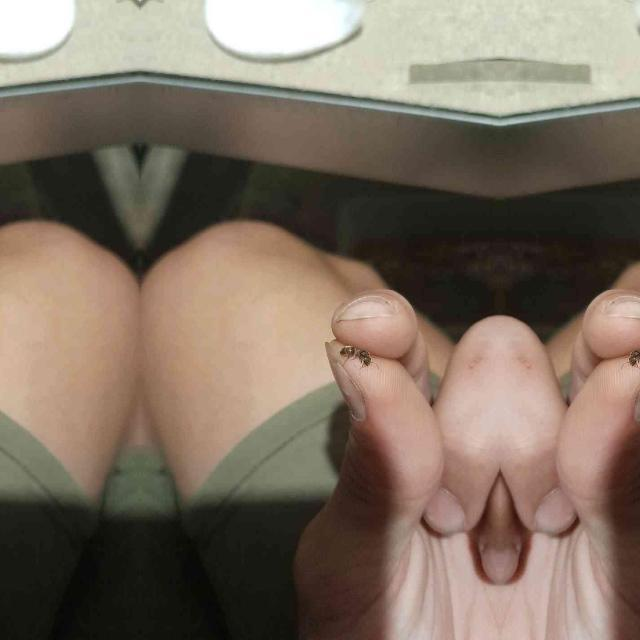Lasius: (333, 337, 375, 368), (622, 336, 640, 366)
